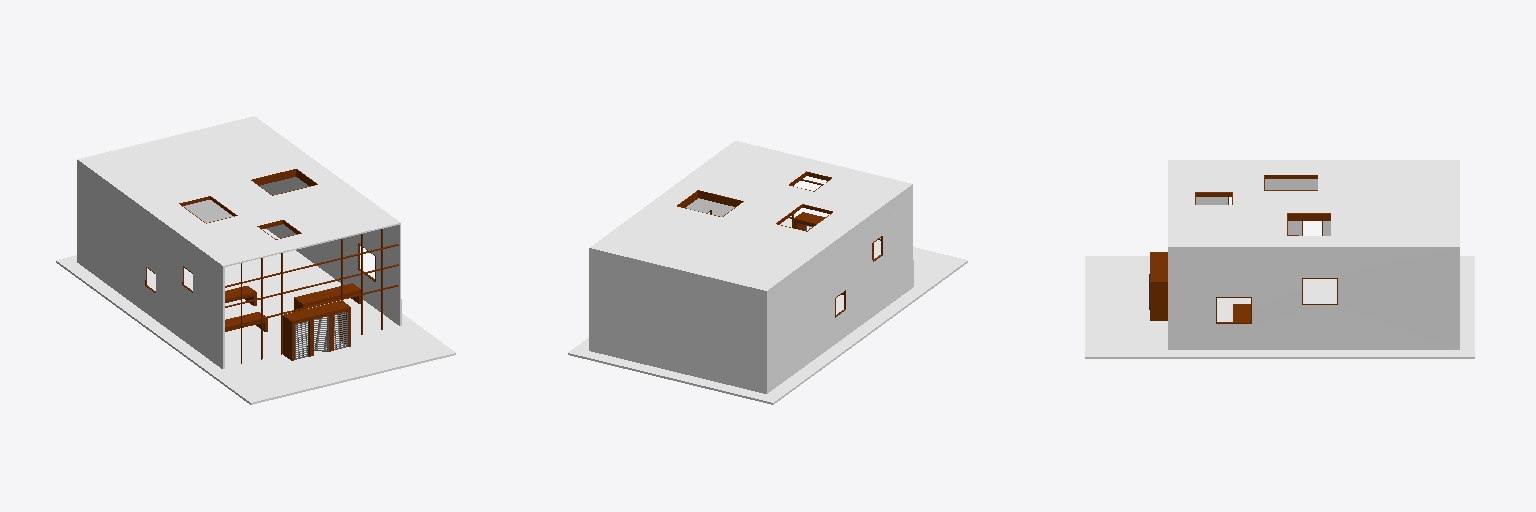
The model's file is interior_1.obj.
3 views of the same model, side by side, from view 1: azimuth 30°, elevation 25°; view 2: azimuth 150°, elevation 25°; view 3: azimuth 270°, elevation 25° (orthographic).
Visible parts, largest first — view 1: wall, ground, entrance_door, windos_top, furniture02; view 2: wall, ground, windos_top; view 3: wall, ground, entrance_door, windos_top.
Part boxes in pixels (x1,y1,x2,y2): wall: (77,116,401,368); ground: (56,229,455,404); entrance_door: (283,300,350,360); windos_top: (179,169,317,239); furniture02: (294,283,360,311); wall: (589,141,913,393); ground: (568,218,967,404); windos_top: (677,171,832,231); wall: (1168,160,1459,349); ground: (1085,256,1474,358); entrance_door: (1150,252,1167,320); windos_top: (1195,175,1330,235).
Bounding box in the file's own units: 106 × 51.71 × 174.